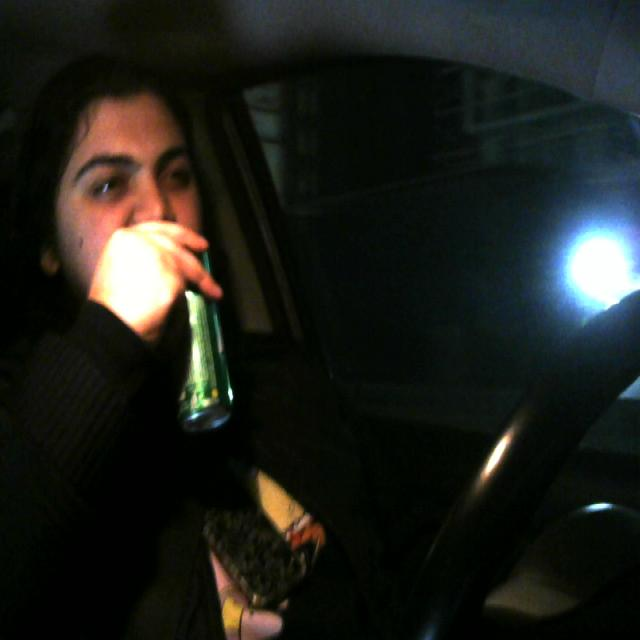drinking: (160, 251, 242, 433)
